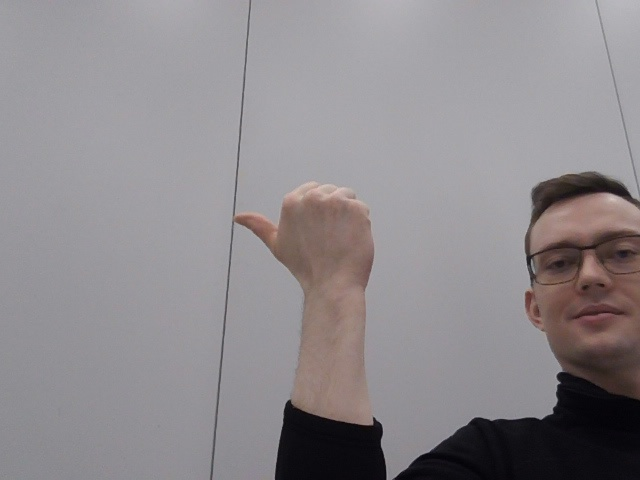right: (228, 171, 405, 327)
